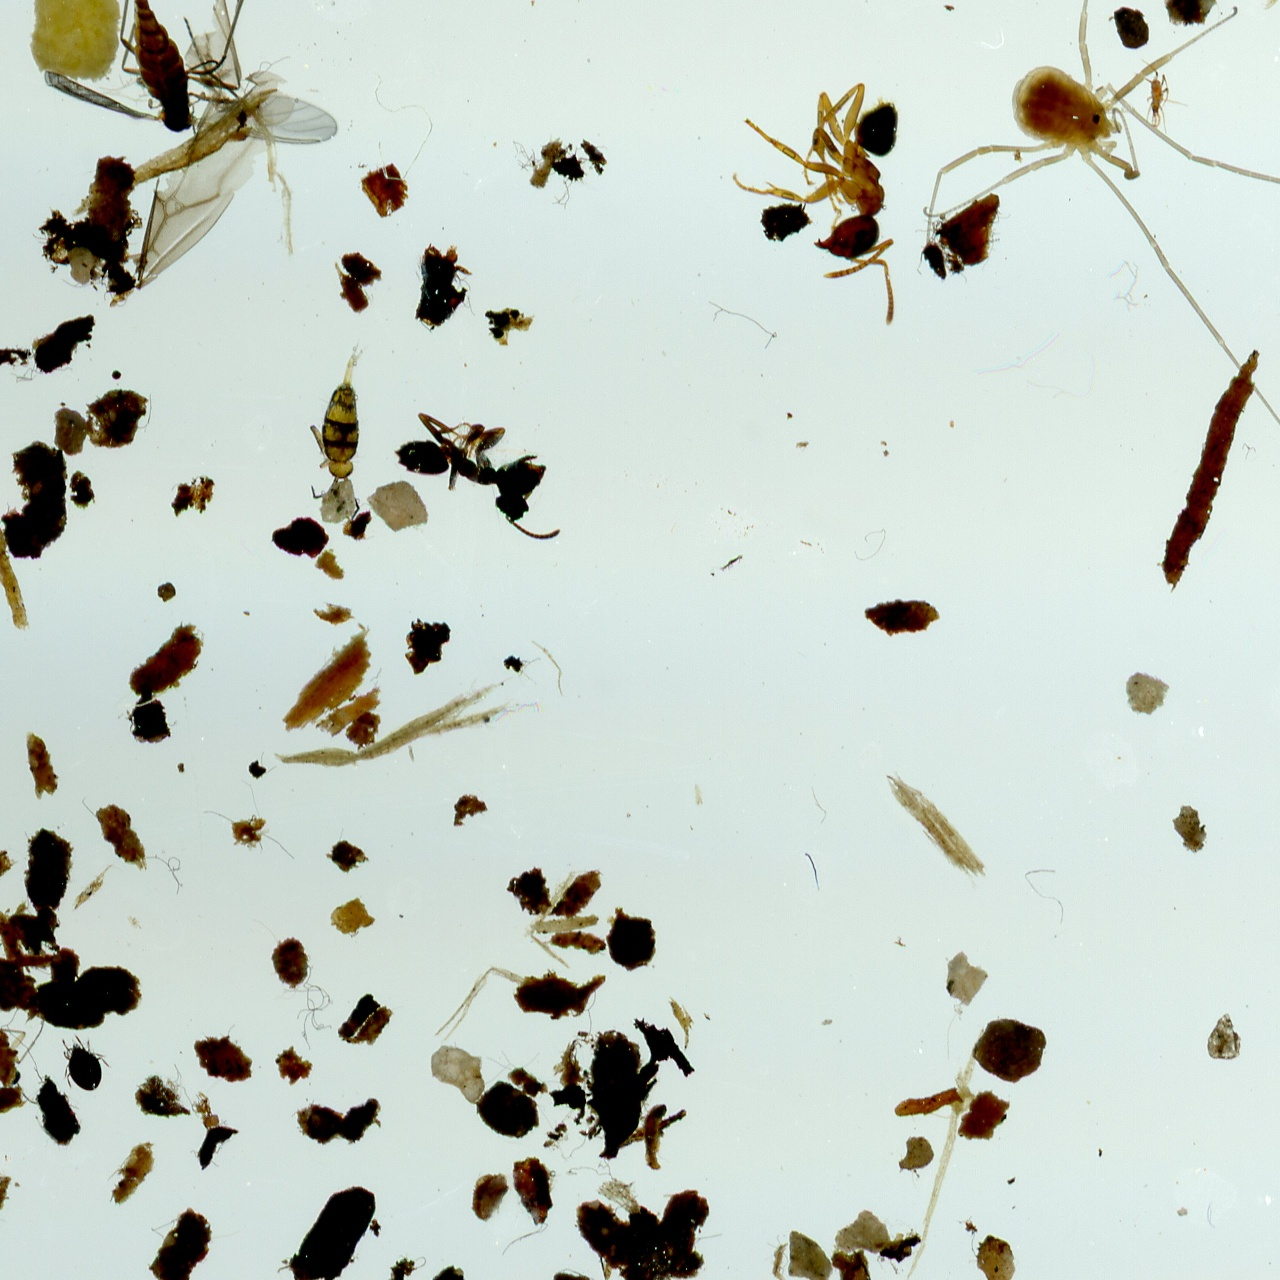arthropod: (853, 0, 1280, 588), (729, 78, 904, 329), (378, 400, 585, 548), (114, 0, 289, 144), (306, 333, 372, 526), (1133, 57, 1192, 136), (0, 998, 50, 1089), (59, 1030, 112, 1094)
